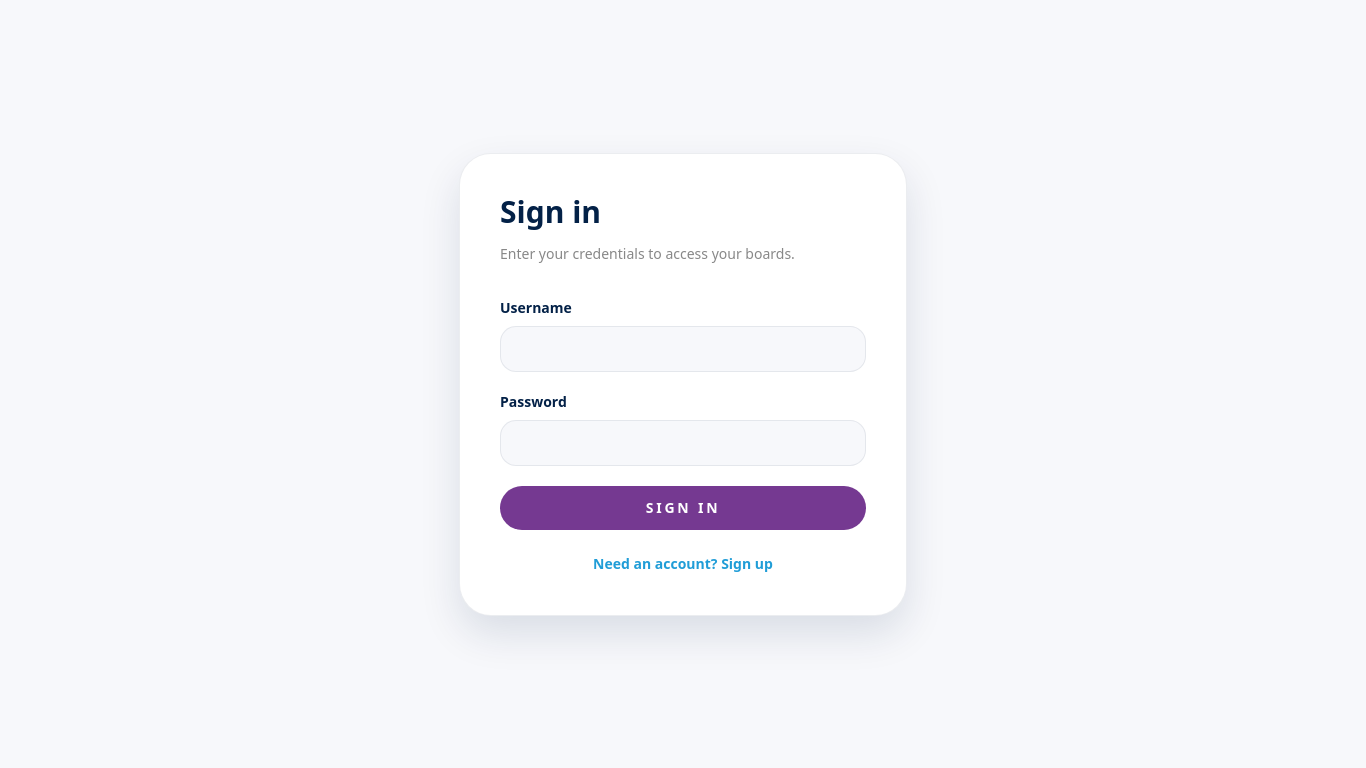
Test: LoginGate › authenticates and shows the board on valid credentials
expect the heading "Sign in" is shown: met, box x1=500 y1=190 x2=601 y2=232
Type "user" into the field labelled "Username" at (683, 348), box x1=500 y1=326 x2=866 y2=372
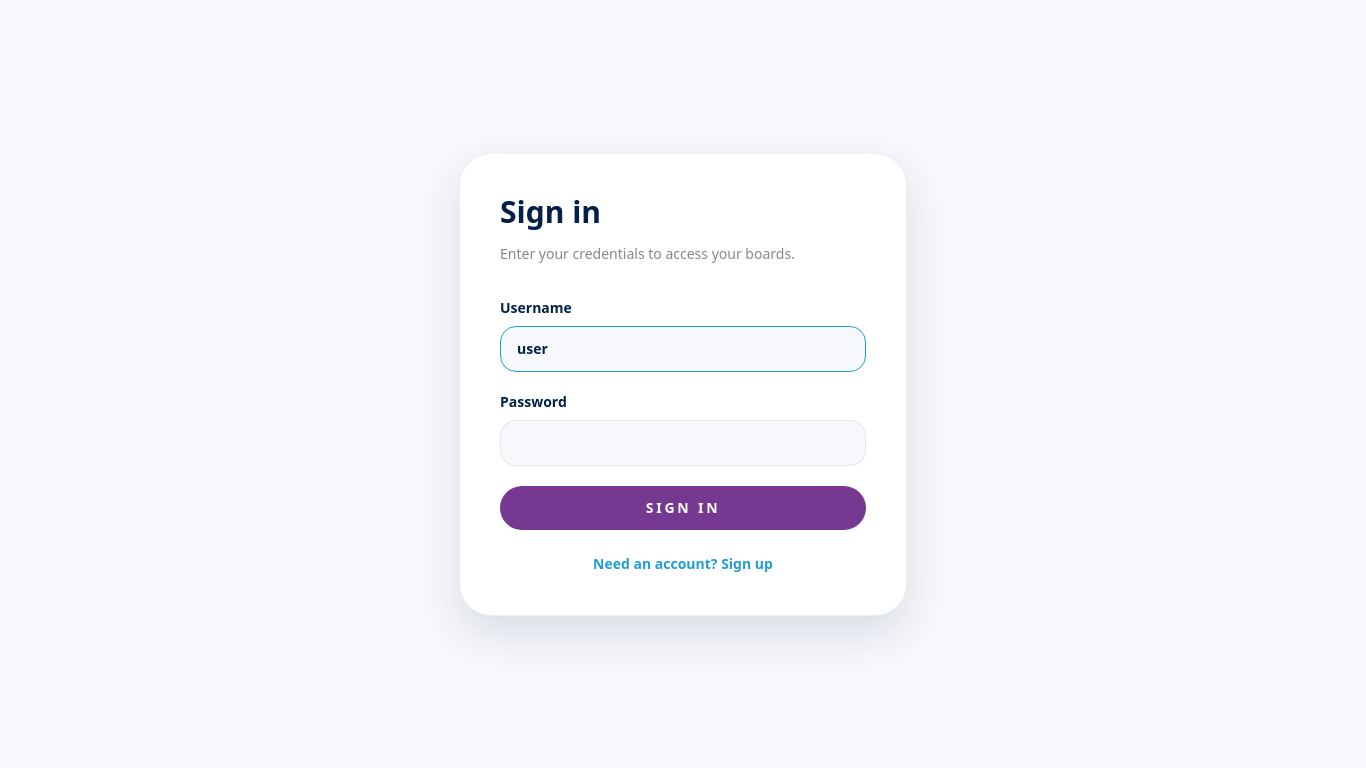
Type "password" into the password field labelled "Password" at (683, 442), box x1=500 y1=420 x2=866 y2=466
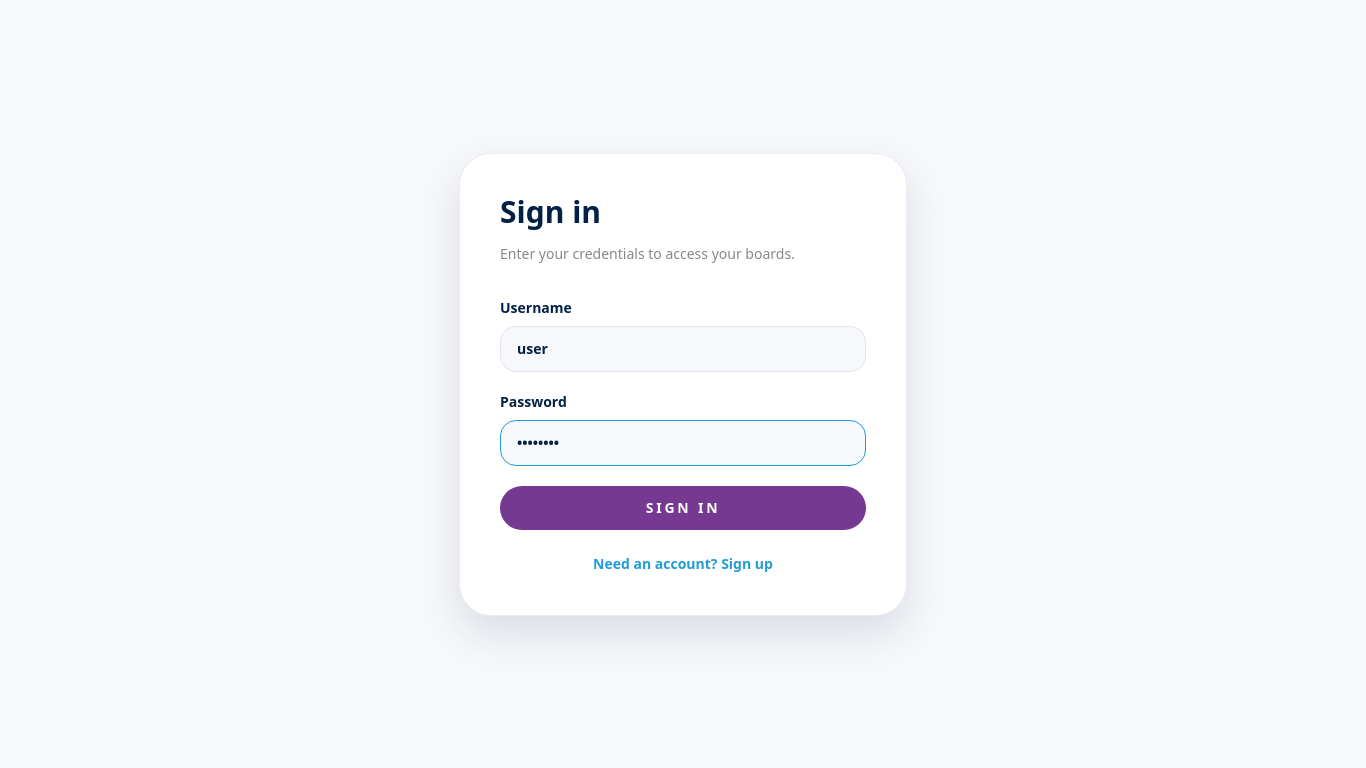
Click the button "Sign in" at (683, 508), box x1=500 y1=486 x2=866 y2=530
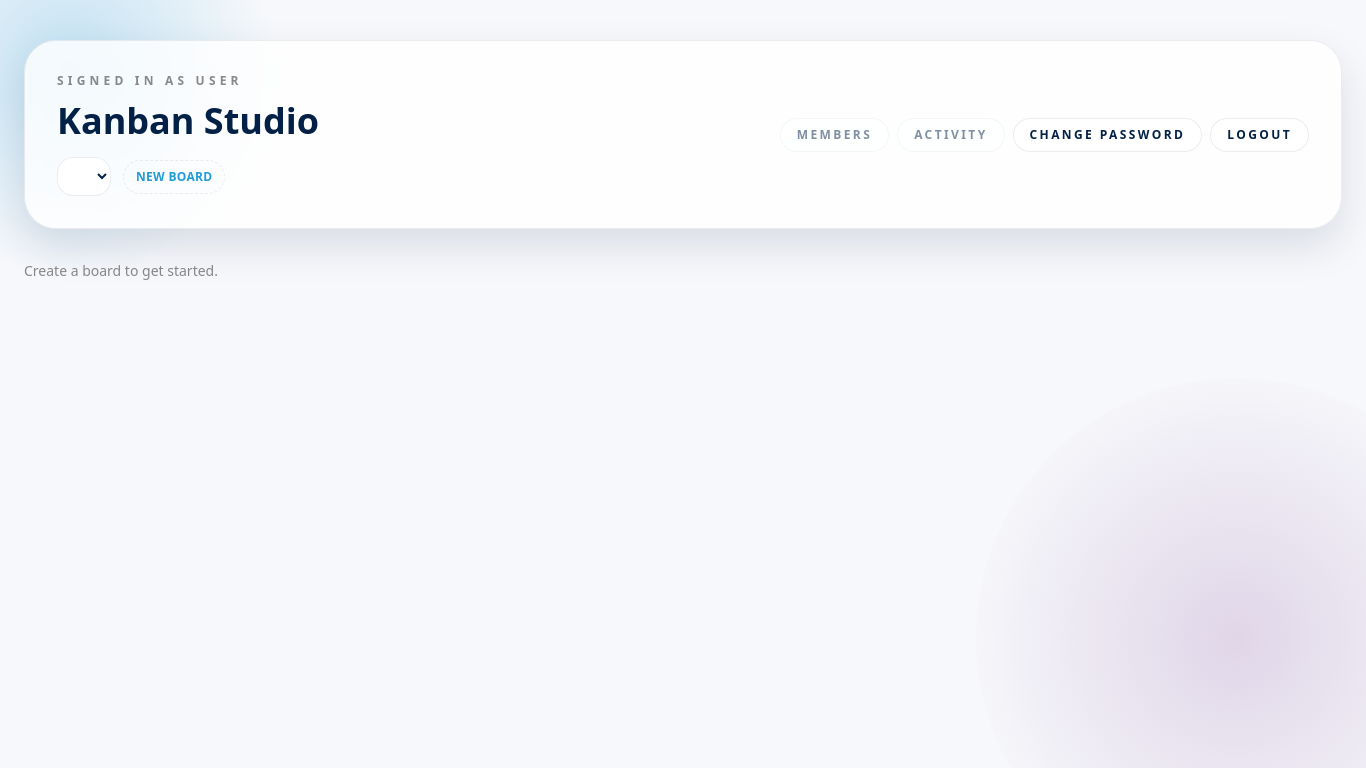
expect the button "Logout" is shown: met, box x1=1210 y1=118 x2=1309 y2=152
